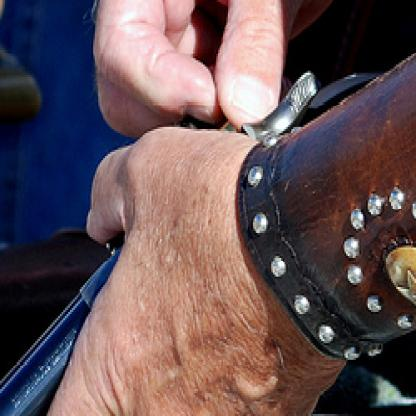gun: (0, 66, 333, 414)
